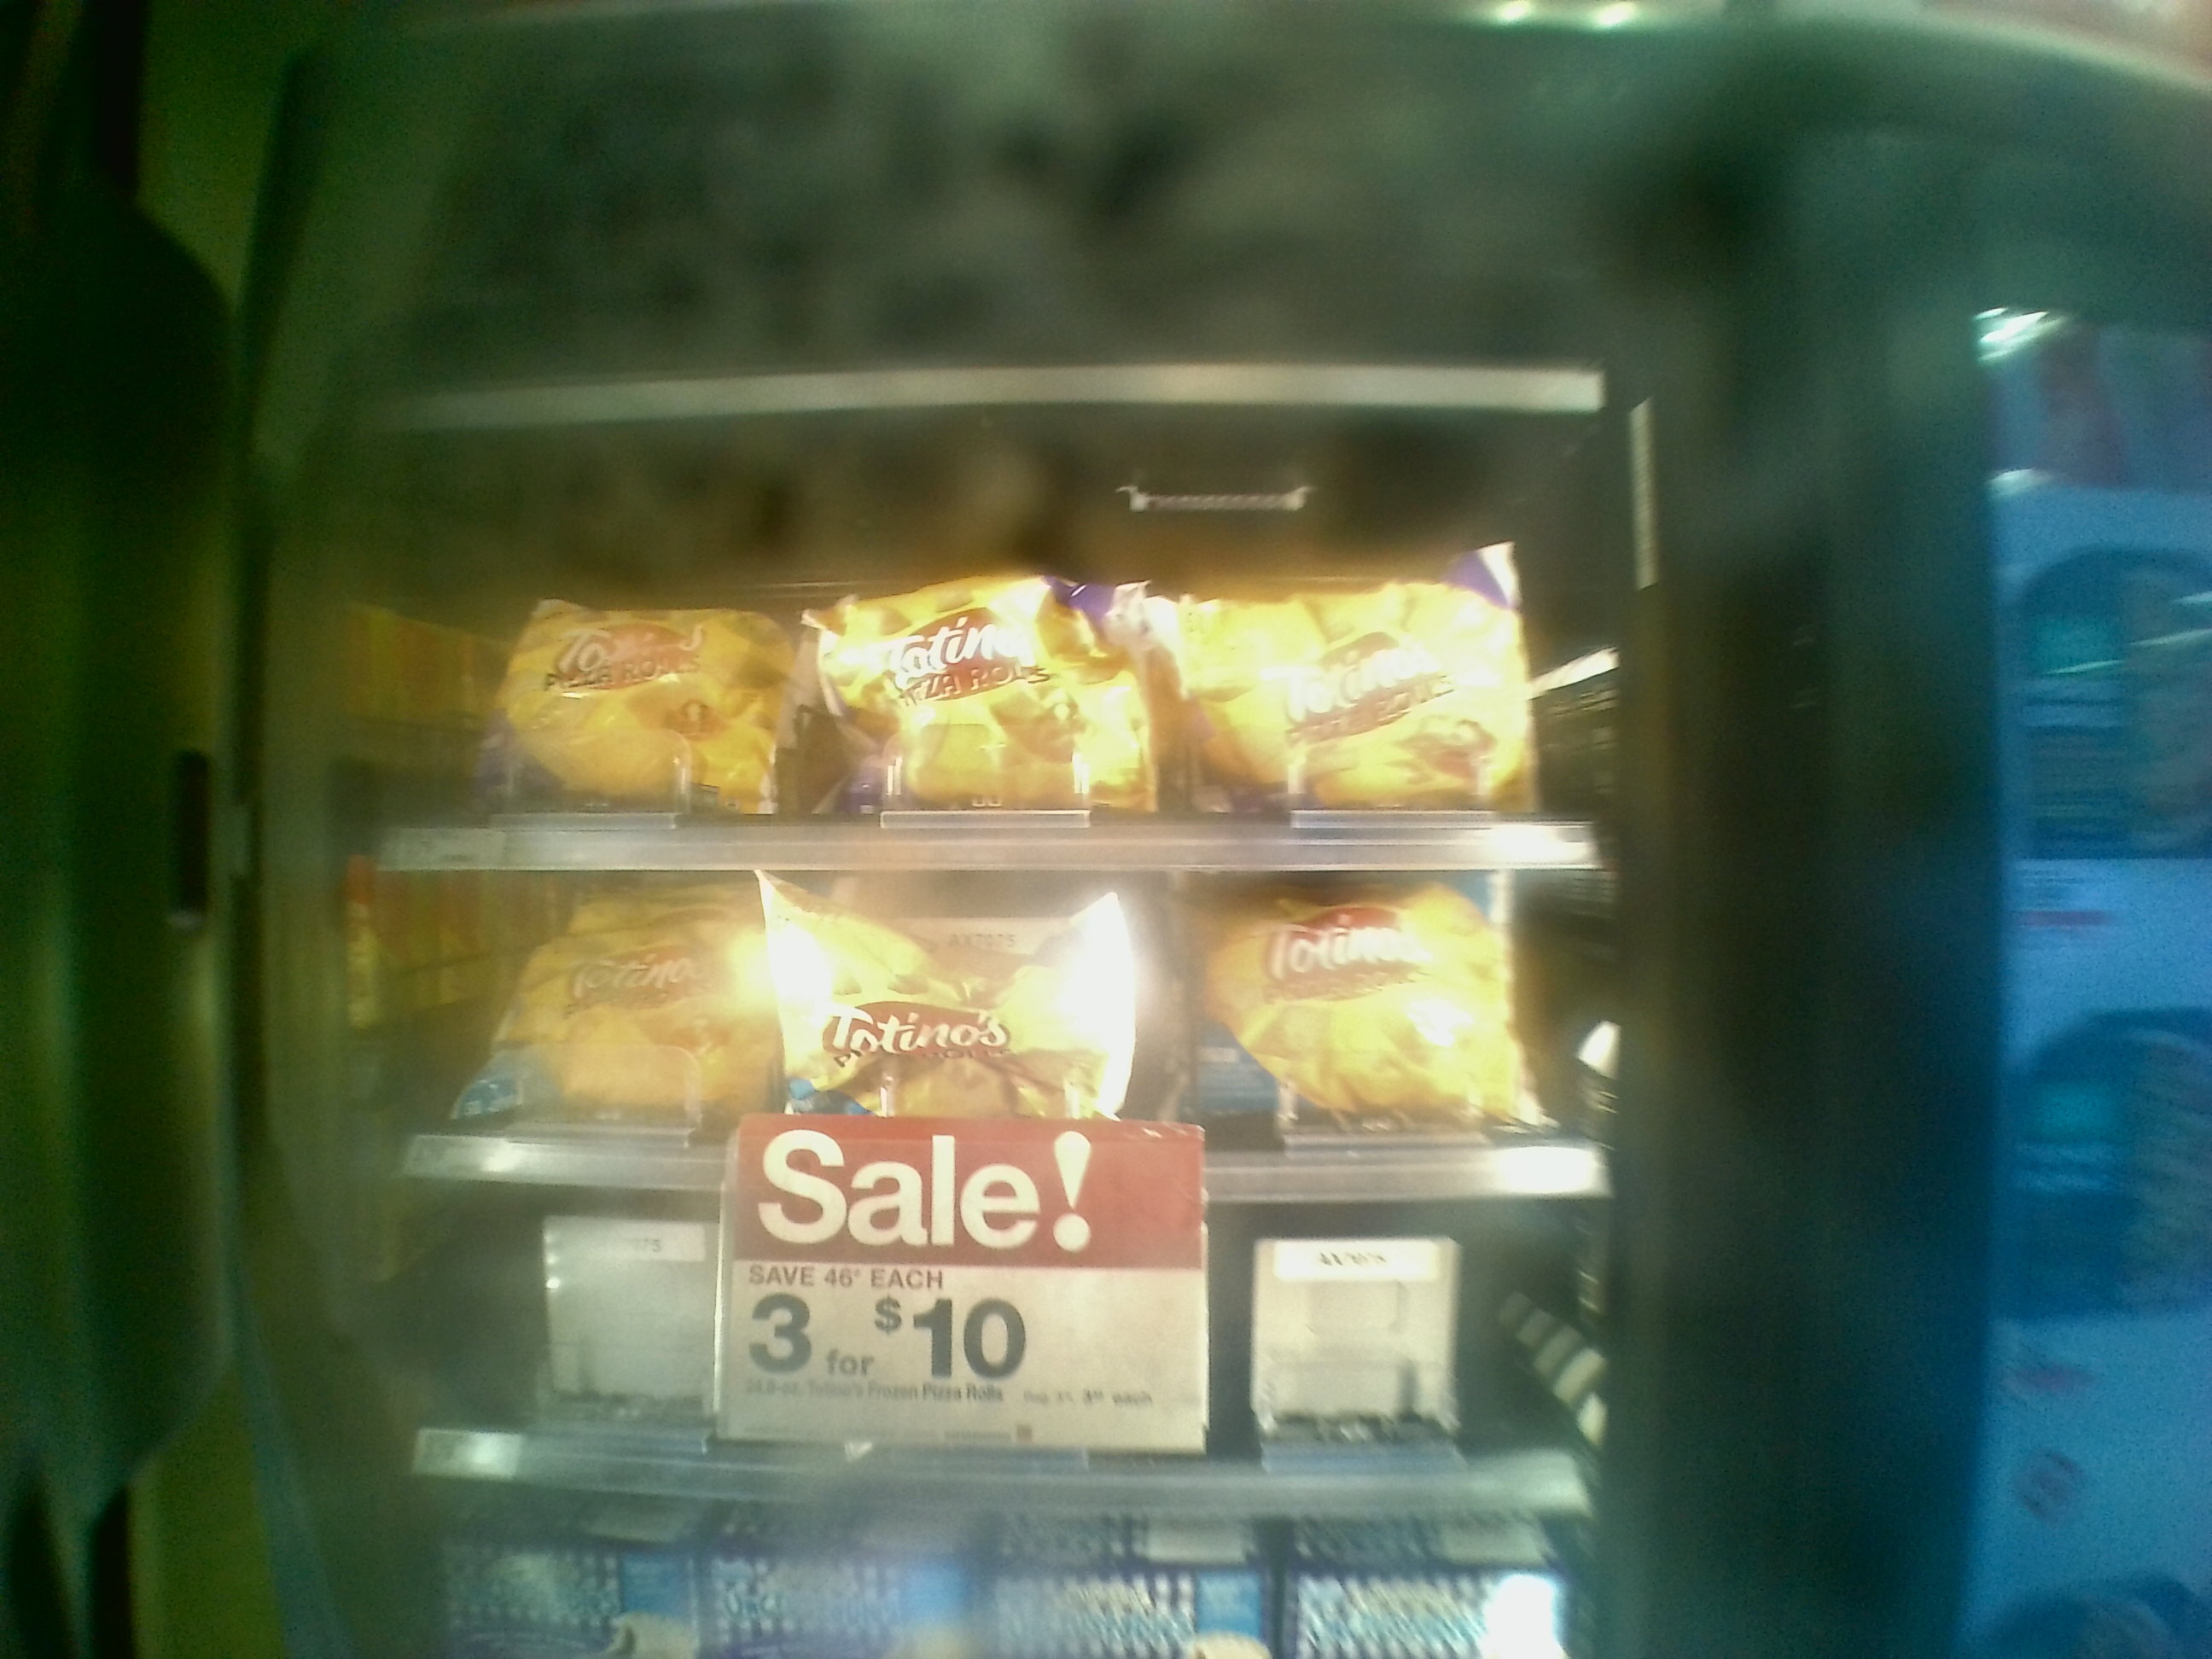shelf: (322, 467, 1615, 840), (350, 849, 1609, 1213), (354, 1154, 1594, 1506)
